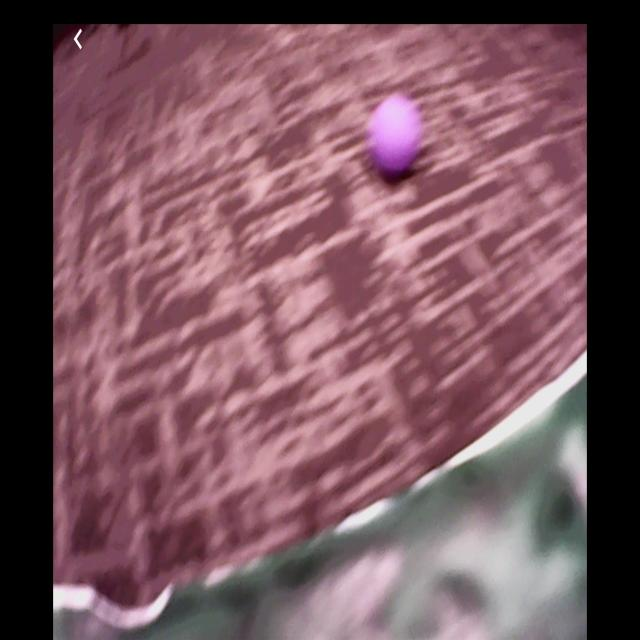ball: (374, 97, 420, 175)
